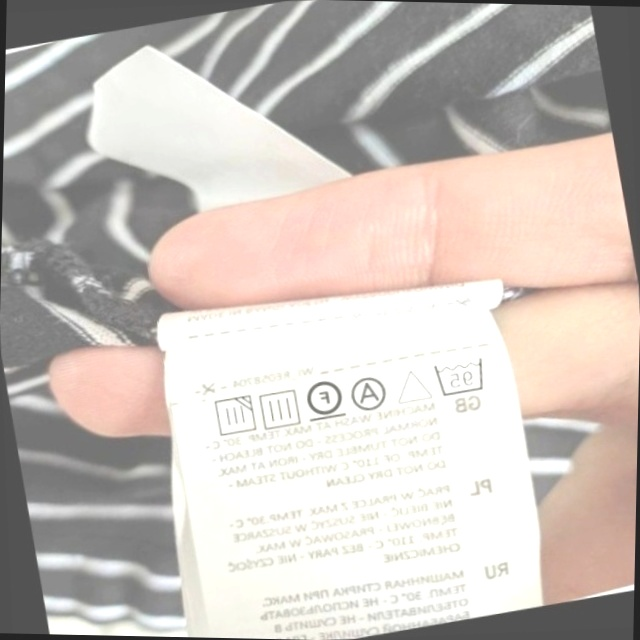95C: (429, 352, 491, 401)
bleach: (392, 361, 434, 409)
drip_dry: (254, 384, 305, 433)
drip_dry_in_shade: (207, 391, 259, 442)
dry_clean: (347, 372, 392, 415)
dry_clean_petrol_only: (301, 372, 347, 424)
